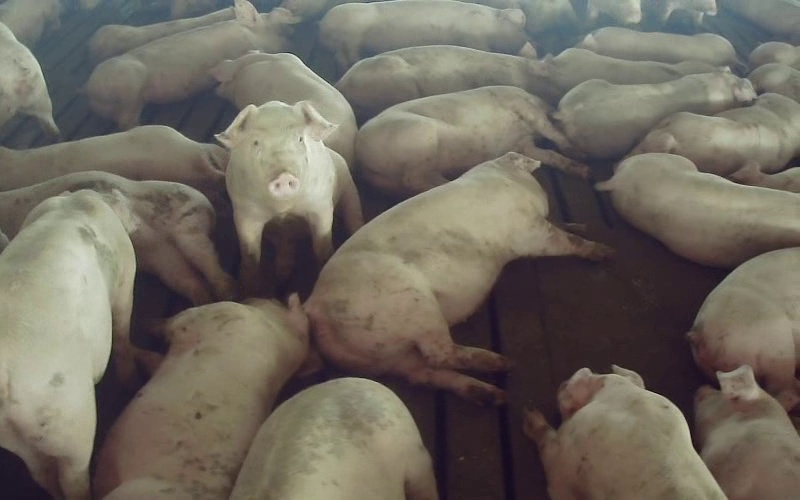pig: (305, 152, 611, 402), (94, 295, 320, 499), (0, 190, 134, 499), (216, 101, 362, 292), (85, 0, 297, 128), (524, 365, 725, 499), (355, 86, 588, 195), (231, 378, 437, 499), (595, 153, 799, 267), (687, 247, 799, 410), (336, 42, 560, 122), (554, 72, 756, 157), (211, 52, 357, 165), (0, 125, 226, 190), (319, 0, 526, 69), (629, 93, 799, 175), (695, 365, 799, 499), (542, 48, 728, 92), (578, 27, 736, 65)
